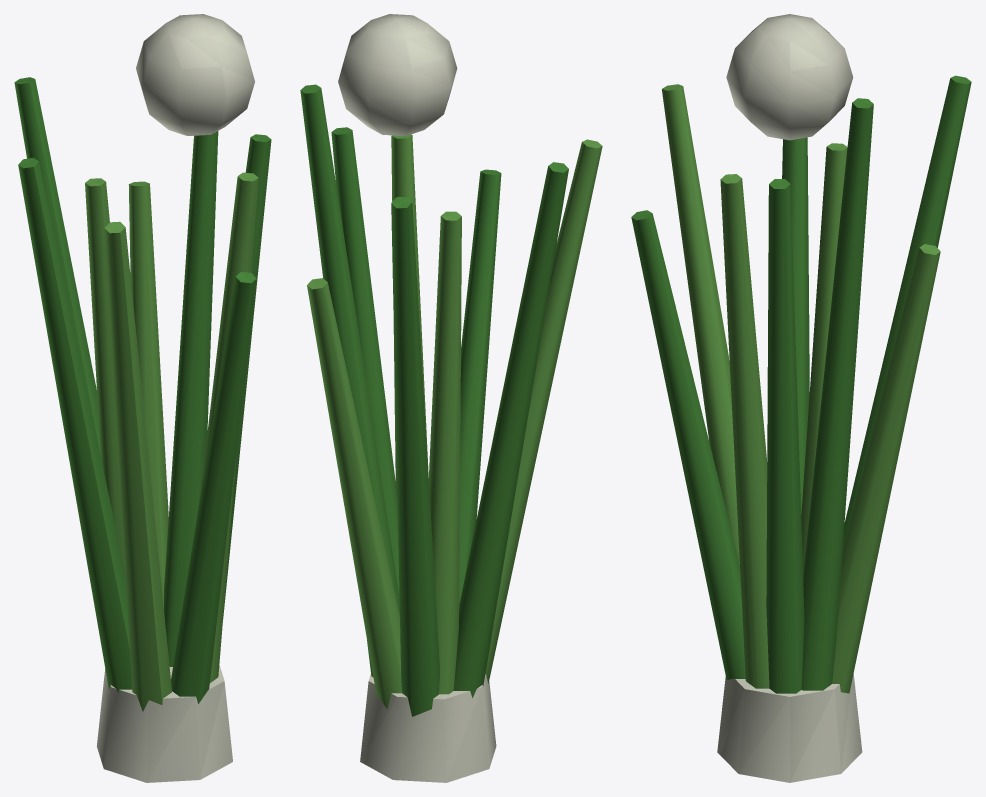
The model's file is crop-scallion-flowering.glb.
3 renders of one model, left to right at view 1: azimuth 30°, elevation 25°; view 2: azimuth 150°, elevation 25°; view 3: azimuth 270°, elevation 25°, orthographic. The views are drawn at different scales.
Visible parts, largest first — view 1: crop-scallion-flowering-kit; view 2: crop-scallion-flowering-kit; view 3: crop-scallion-flowering-kit.
Boxes of the visible parts, left/top/right/bottom form: crop-scallion-flowering-kit: left=14, top=14, right=271, bottom=782; crop-scallion-flowering-kit: left=300, top=14, right=602, bottom=782; crop-scallion-flowering-kit: left=631, top=14, right=971, bottom=782.
Size of the model in its own units: 0.3144 by 0.9108 by 0.3753.
